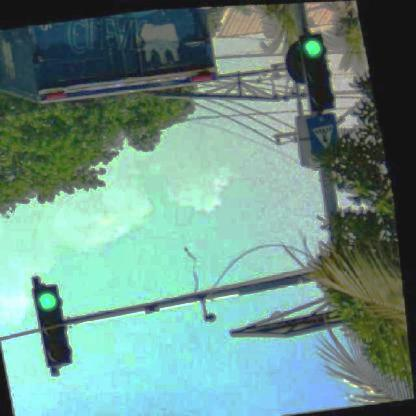Traffic Light -Green-: (305, 31, 346, 112), (36, 281, 74, 365)
